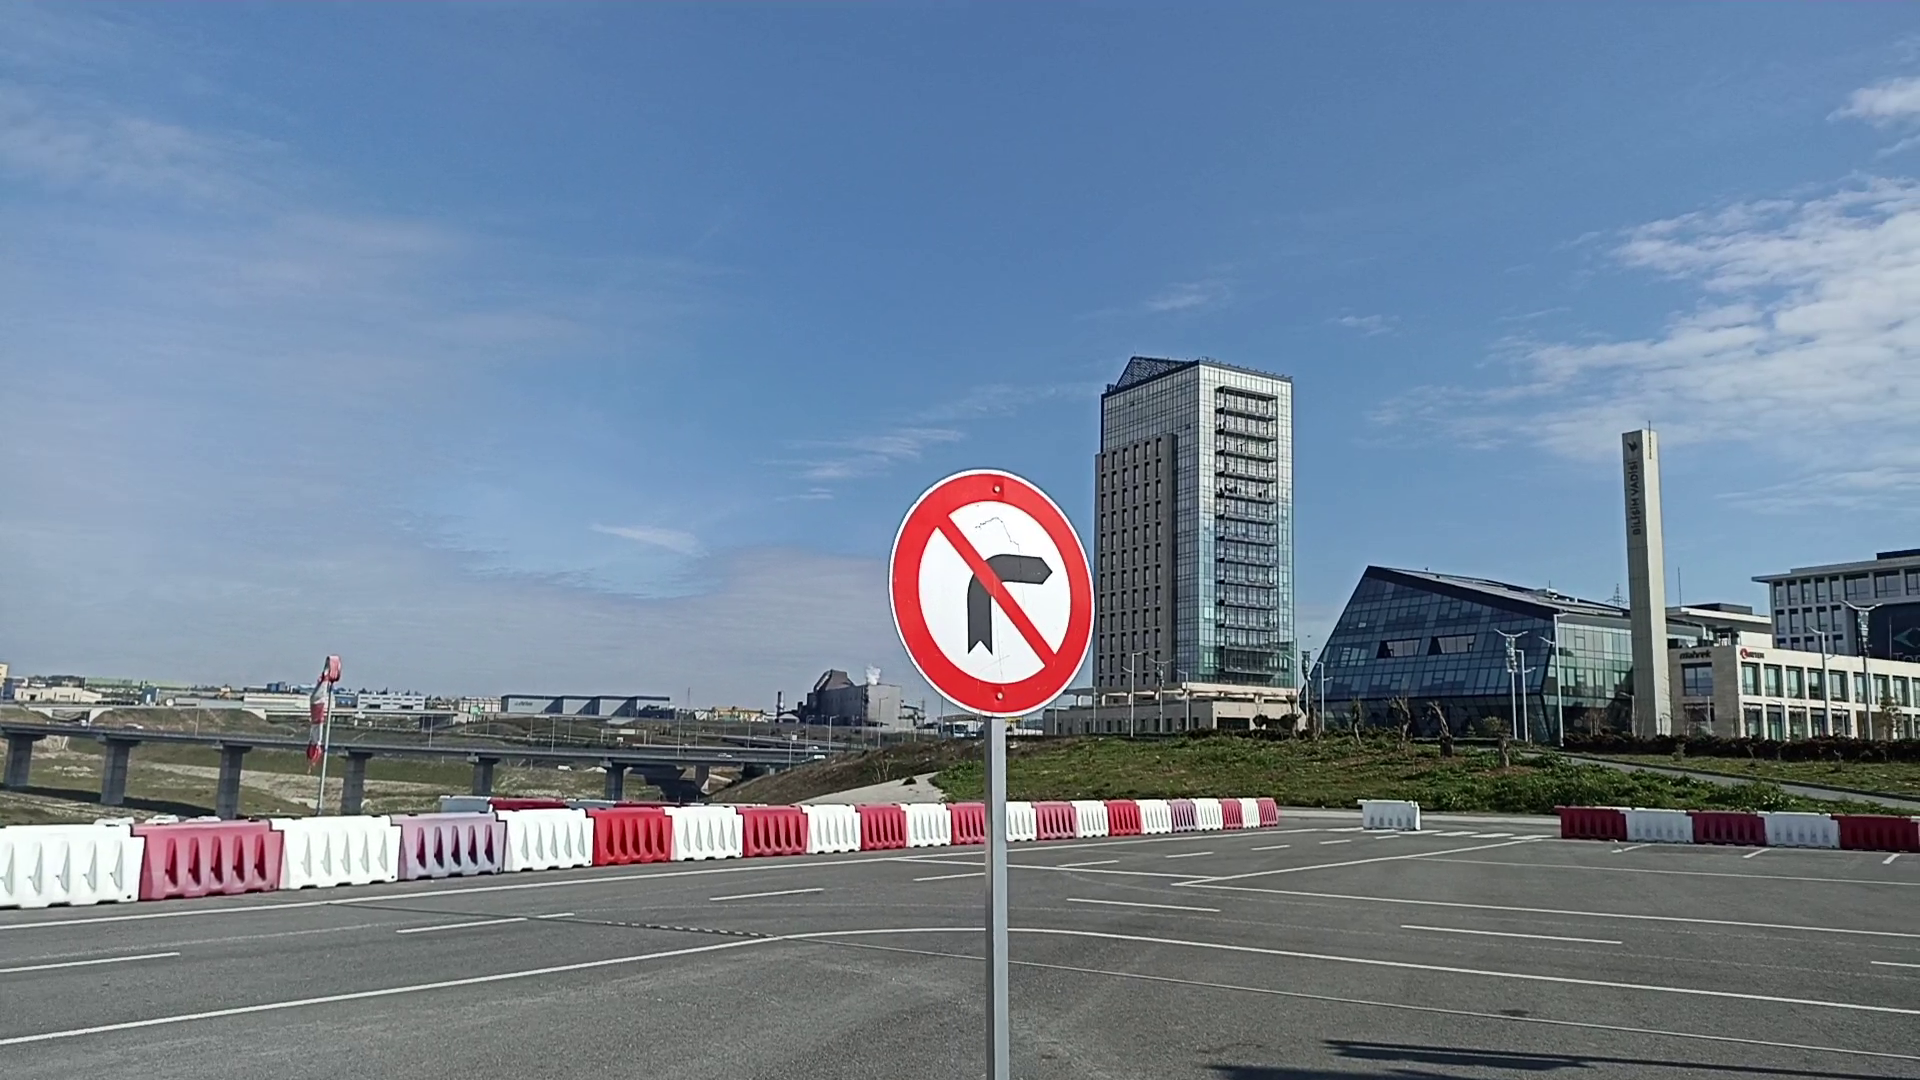noleftturn: (887, 465, 1102, 720)
